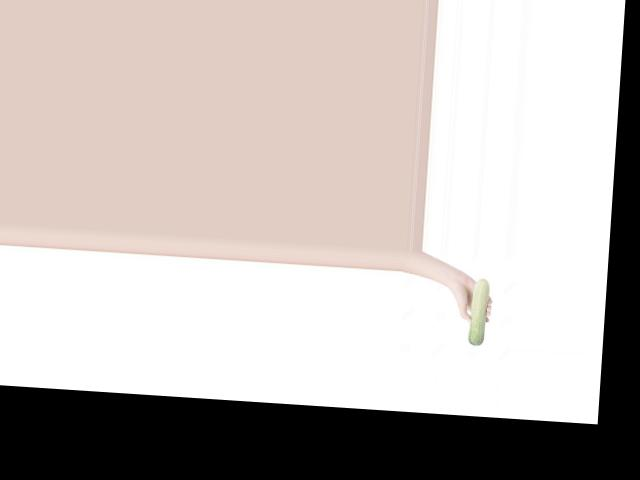cucumber: (466, 276, 489, 346)
